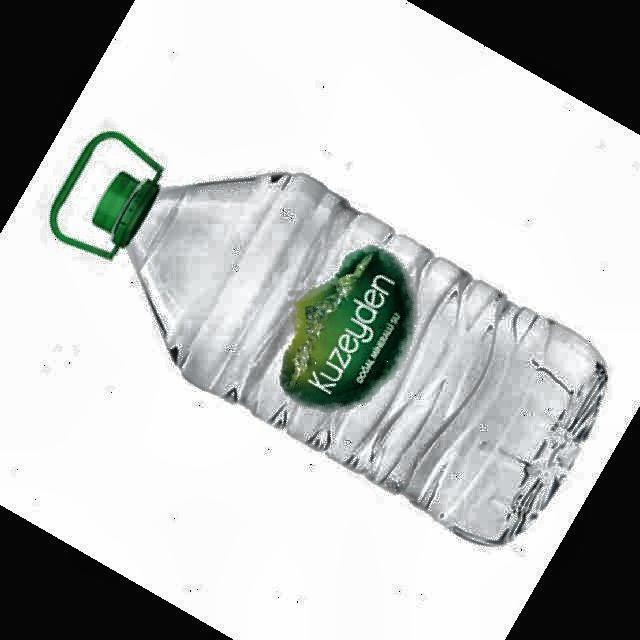plastic: (51, 132, 608, 544)
